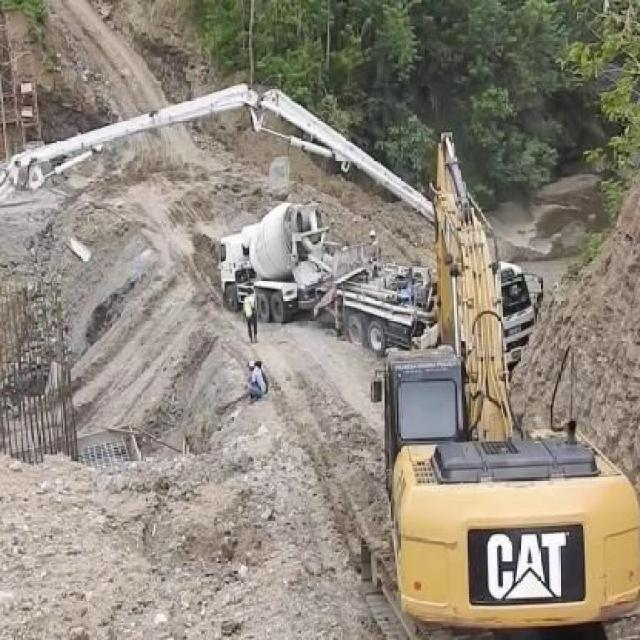excavator: (377, 129, 638, 640)
